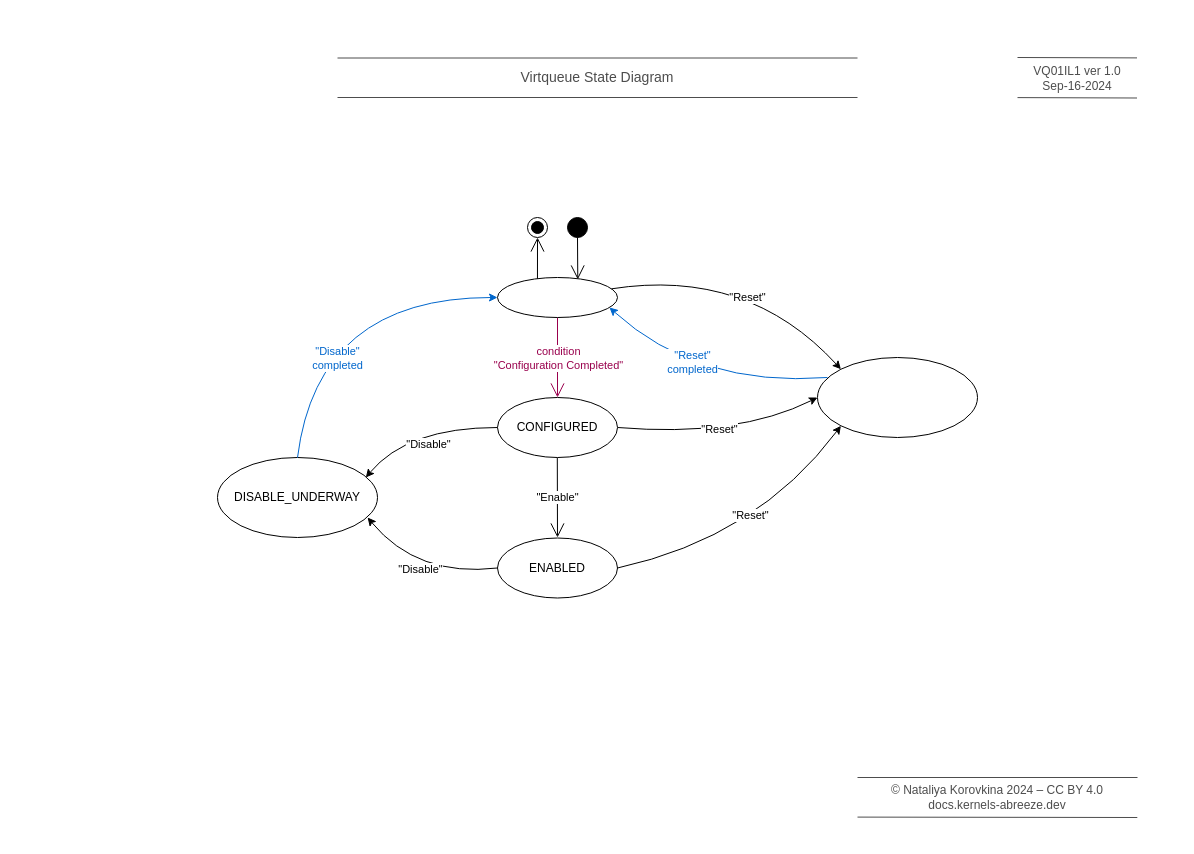
The diagram is 1194 pixels wide and 854 high, and some of its shapes have lost their labels. Here are the shapes that lost their labels. From the top down, the centre of each, then its label:
the point at 557,297: INIT
the point at 897,397: RESET_UNDERWAY
